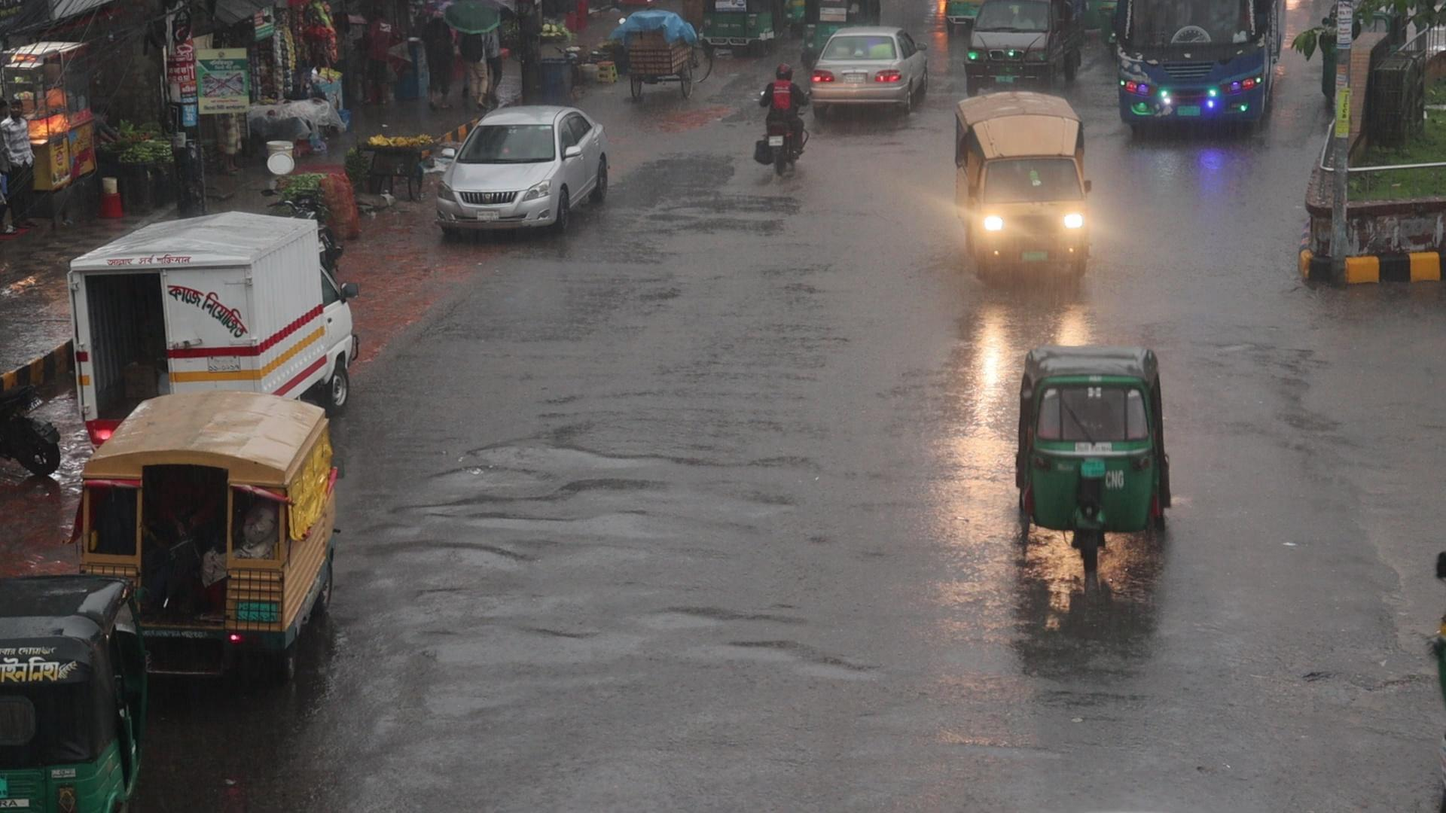Bike: (755, 61, 811, 176)
Car: (808, 24, 929, 116)
Truck: (76, 387, 336, 650), (951, 88, 1092, 287)
